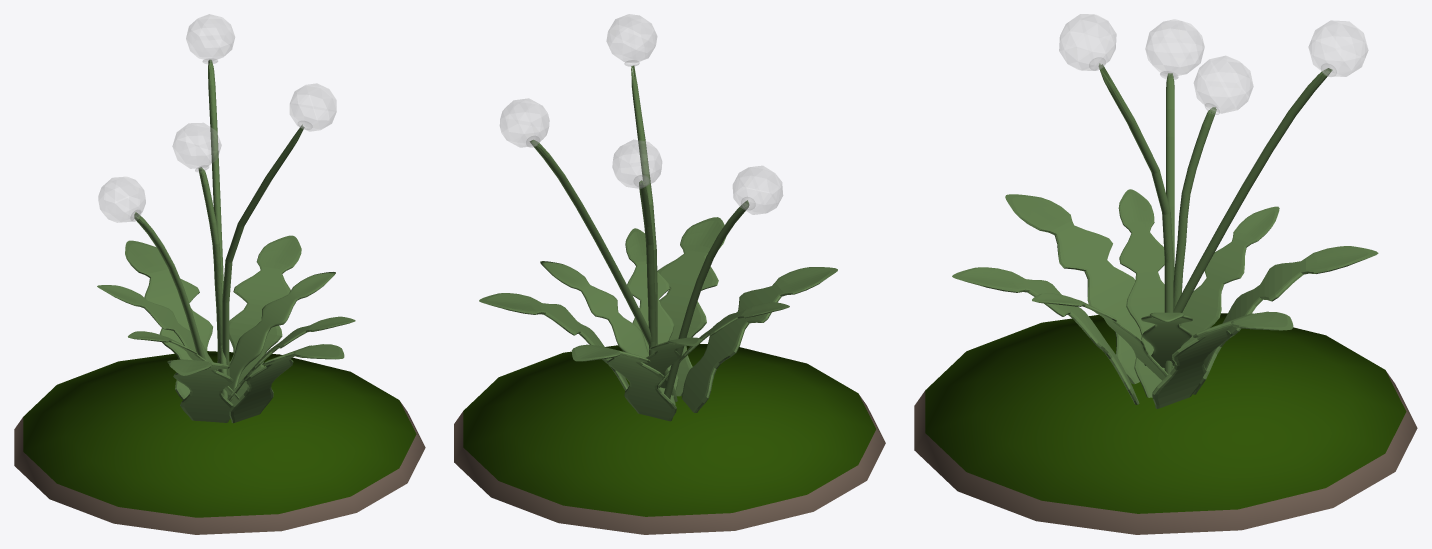
Rendered from 0b610fd3-0681-40cc-99d0-28fc5bab0b34.glb.
3 views of the same model, side by side, from view 1: azimuth 30°, elevation 25°; view 2: azimuth 150°, elevation 25°; view 3: azimuth 270°, elevation 25° (orthographic). The views are drawn at different scales.
Parts seen in each view (by area): view 1: Sphere001, Box005; view 2: Sphere001, Box005; view 3: Sphere001, Box005.
Boxes of the visible parts, box(x1,y1,x2,y2) form: Sphere001: box(14, 351, 425, 534); Box005: box(97, 14, 355, 423); Sphere001: box(454, 344, 885, 534); Box005: box(479, 14, 837, 421); Sphere001: box(914, 313, 1417, 534); Box005: box(952, 14, 1378, 408).
Bounding box in the file's own units: 148 × 146 × 147.
